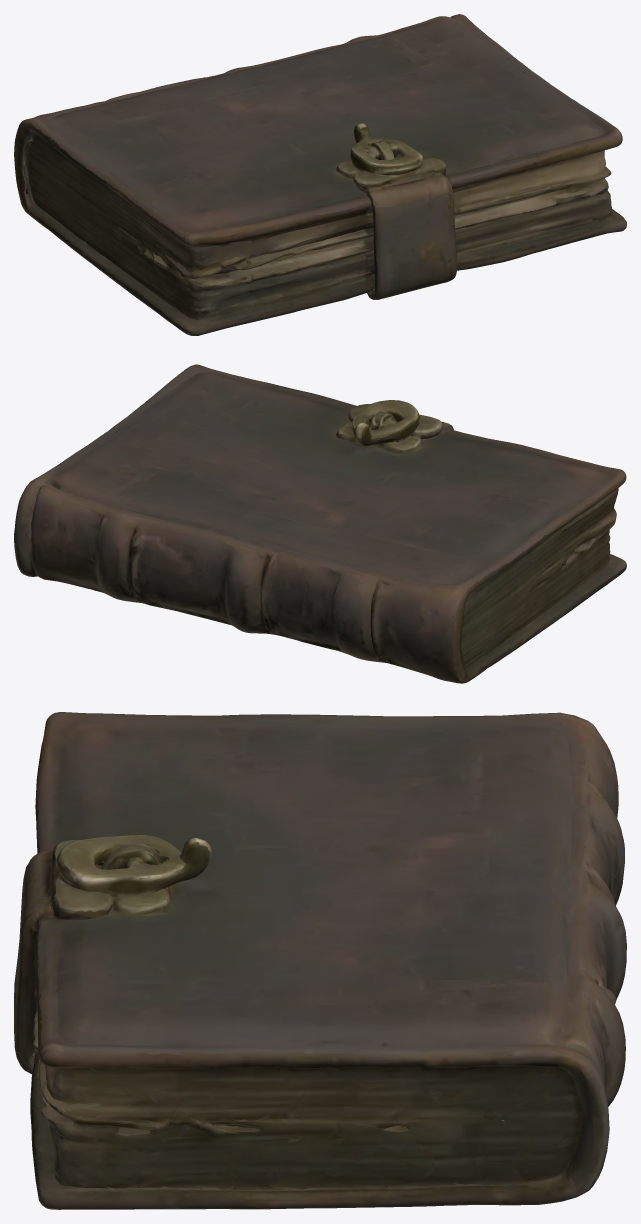
The model's file is journal.glb.
3 views of the same model, one above another, from view 1: azimuth 30°, elevation 25°; view 2: azimuth 150°, elevation 25°; view 3: azimuth 270°, elevation 25° (orthographic). The views are drawn at different scales.
Visible parts, largest first — view 1: geometry_0; view 2: geometry_0; view 3: geometry_0.
Boxes of the visible parts, x1,y1,x2,y2 form: geometry_0: [14, 14, 626, 335]; geometry_0: [14, 364, 626, 683]; geometry_0: [14, 712, 626, 1209].
Bounding box in the file's own units: 0.21 × 0.0599 × 0.1567.
Materials: 1 (1 with a texture image).
